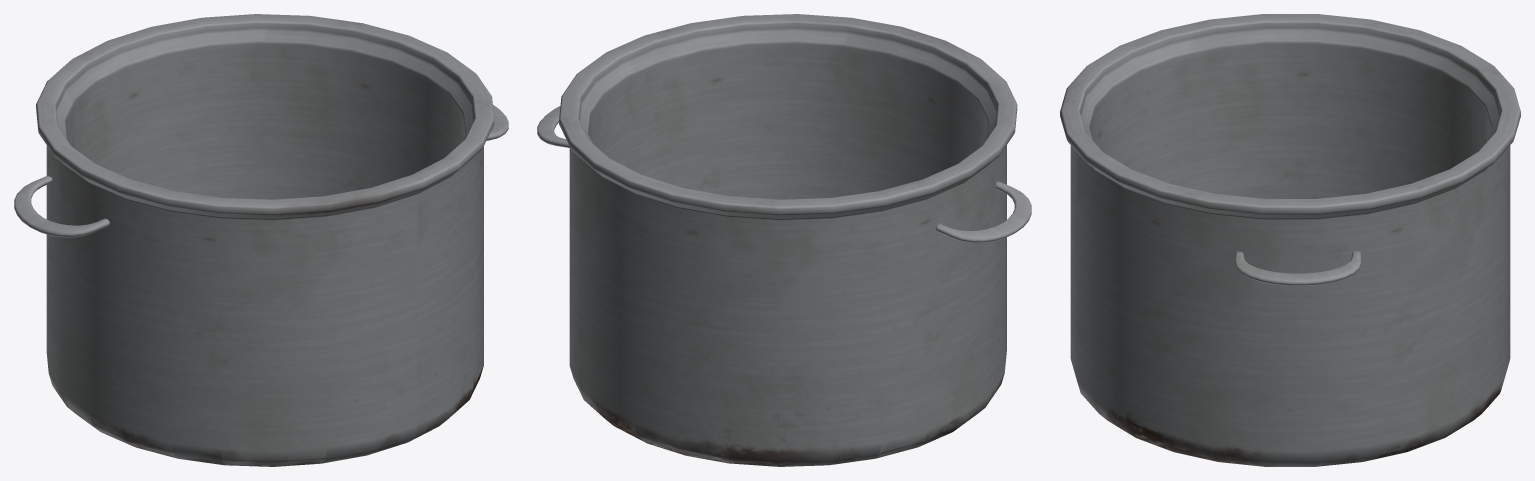
File: SM_Cooking_Pot_Open.fbx
3 views of the same model, side by side, from view 1: azimuth 30°, elevation 25°; view 2: azimuth 150°, elevation 25°; view 3: azimuth 270°, elevation 25° (orthographic).
Parts seen in each view (by area): view 1: SM_Cooking_Pot_Open_LOD0; view 2: SM_Cooking_Pot_Open_LOD0; view 3: SM_Cooking_Pot_Open_LOD0.
Part boxes in pixels (bbox=[...]): SM_Cooking_Pot_Open_LOD0: bbox=[14, 14, 508, 466]; SM_Cooking_Pot_Open_LOD0: bbox=[537, 14, 1031, 466]; SM_Cooking_Pot_Open_LOD0: bbox=[1060, 14, 1520, 466].
Size of the model in its own units: 40.6 by 34.32 by 22.57.
1 material, 1 textured.
